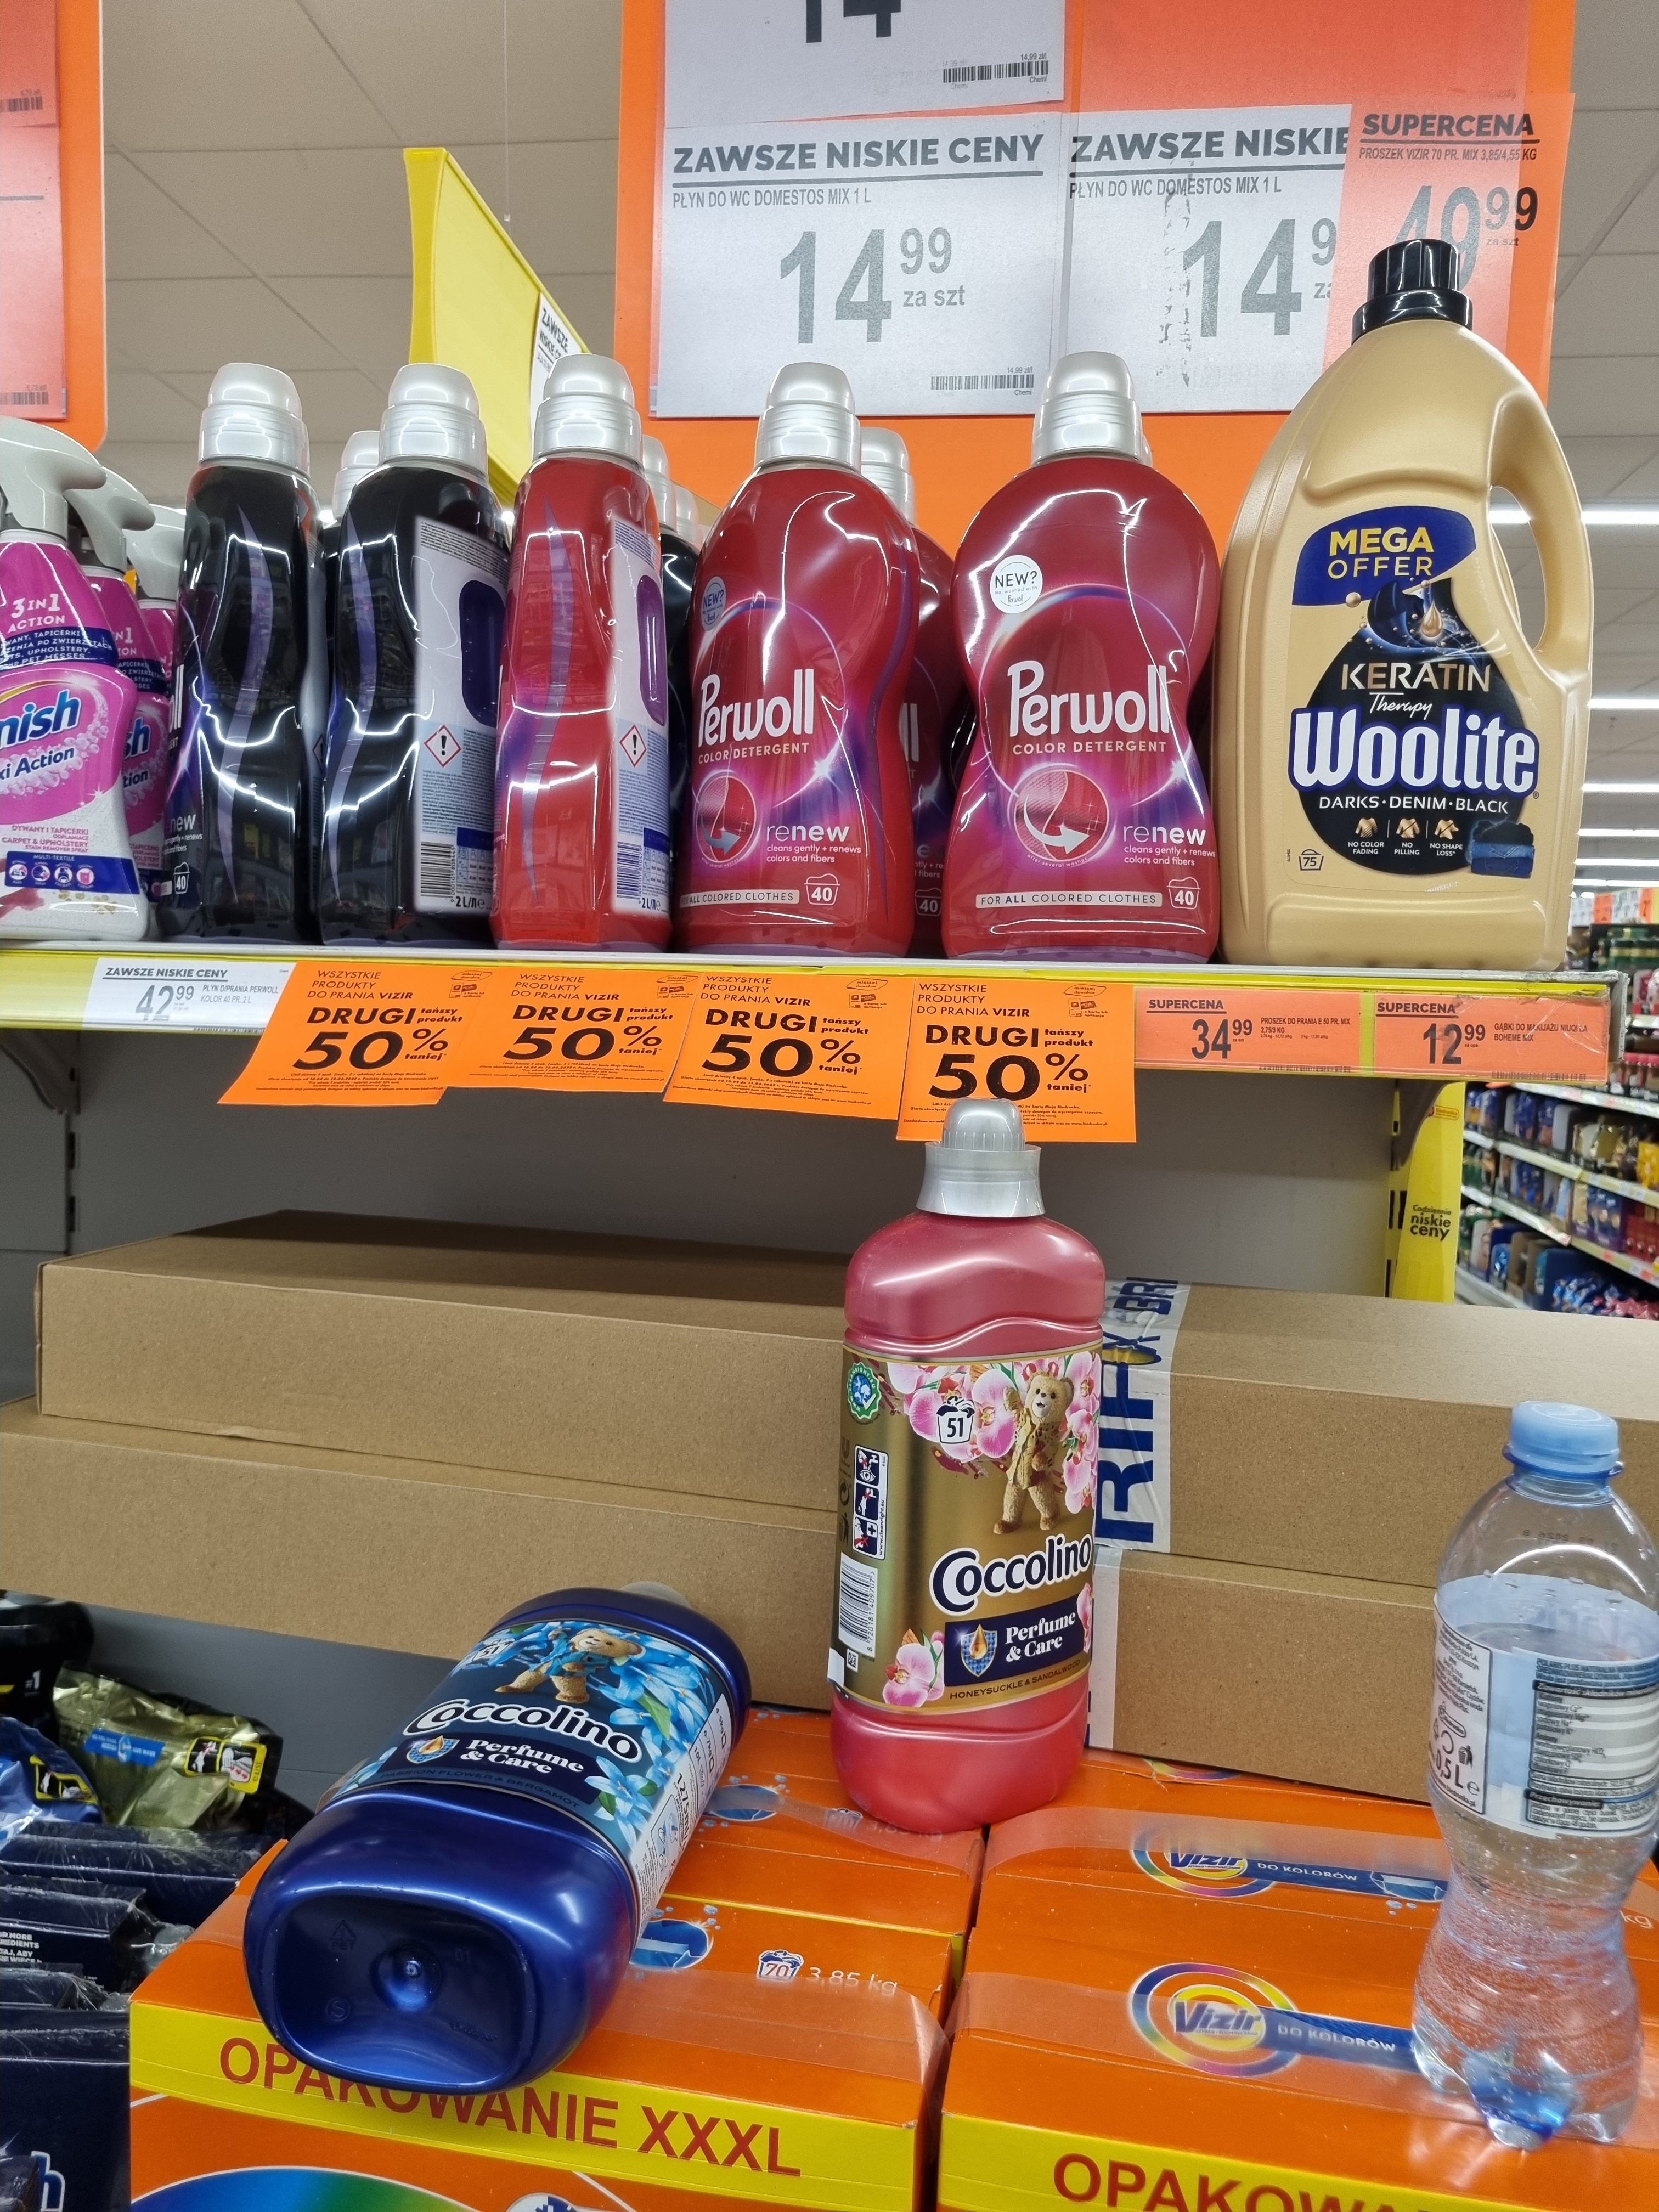cocolino: (246, 1580, 742, 2102), (824, 1207, 1114, 1836)
